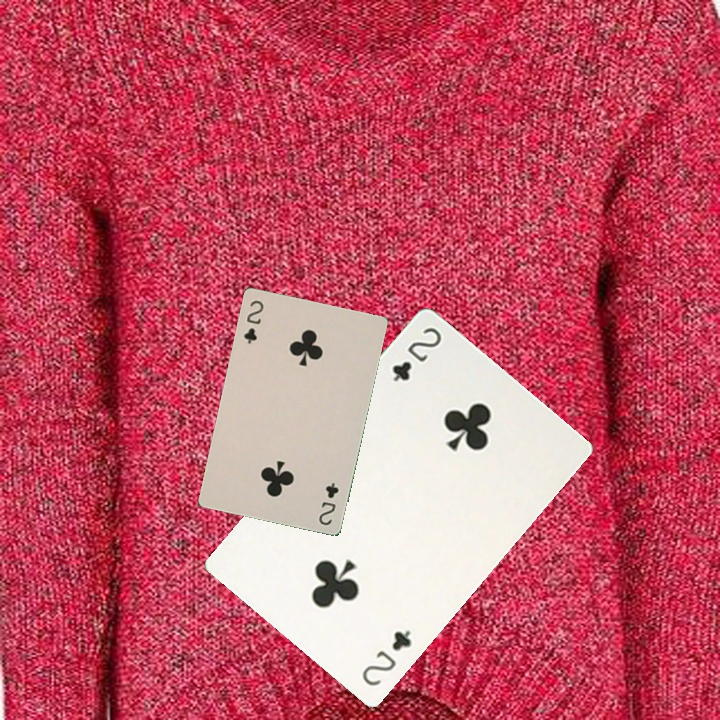2c: (357, 626, 415, 689), (388, 323, 445, 384), (239, 296, 266, 346), (314, 478, 341, 528)
